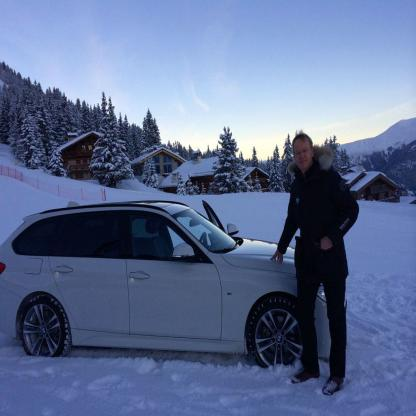Car: (0, 196, 345, 368)
